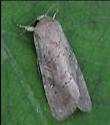army worm adult: (18, 11, 92, 123)
